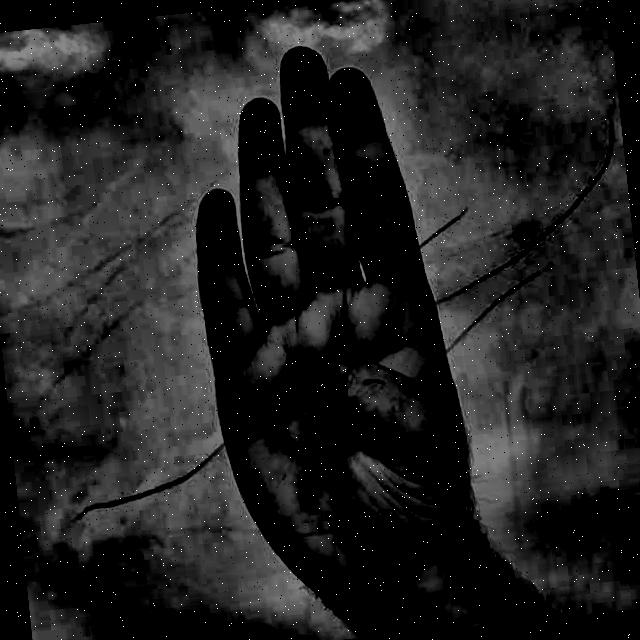Ba: (142, 4, 536, 640)
